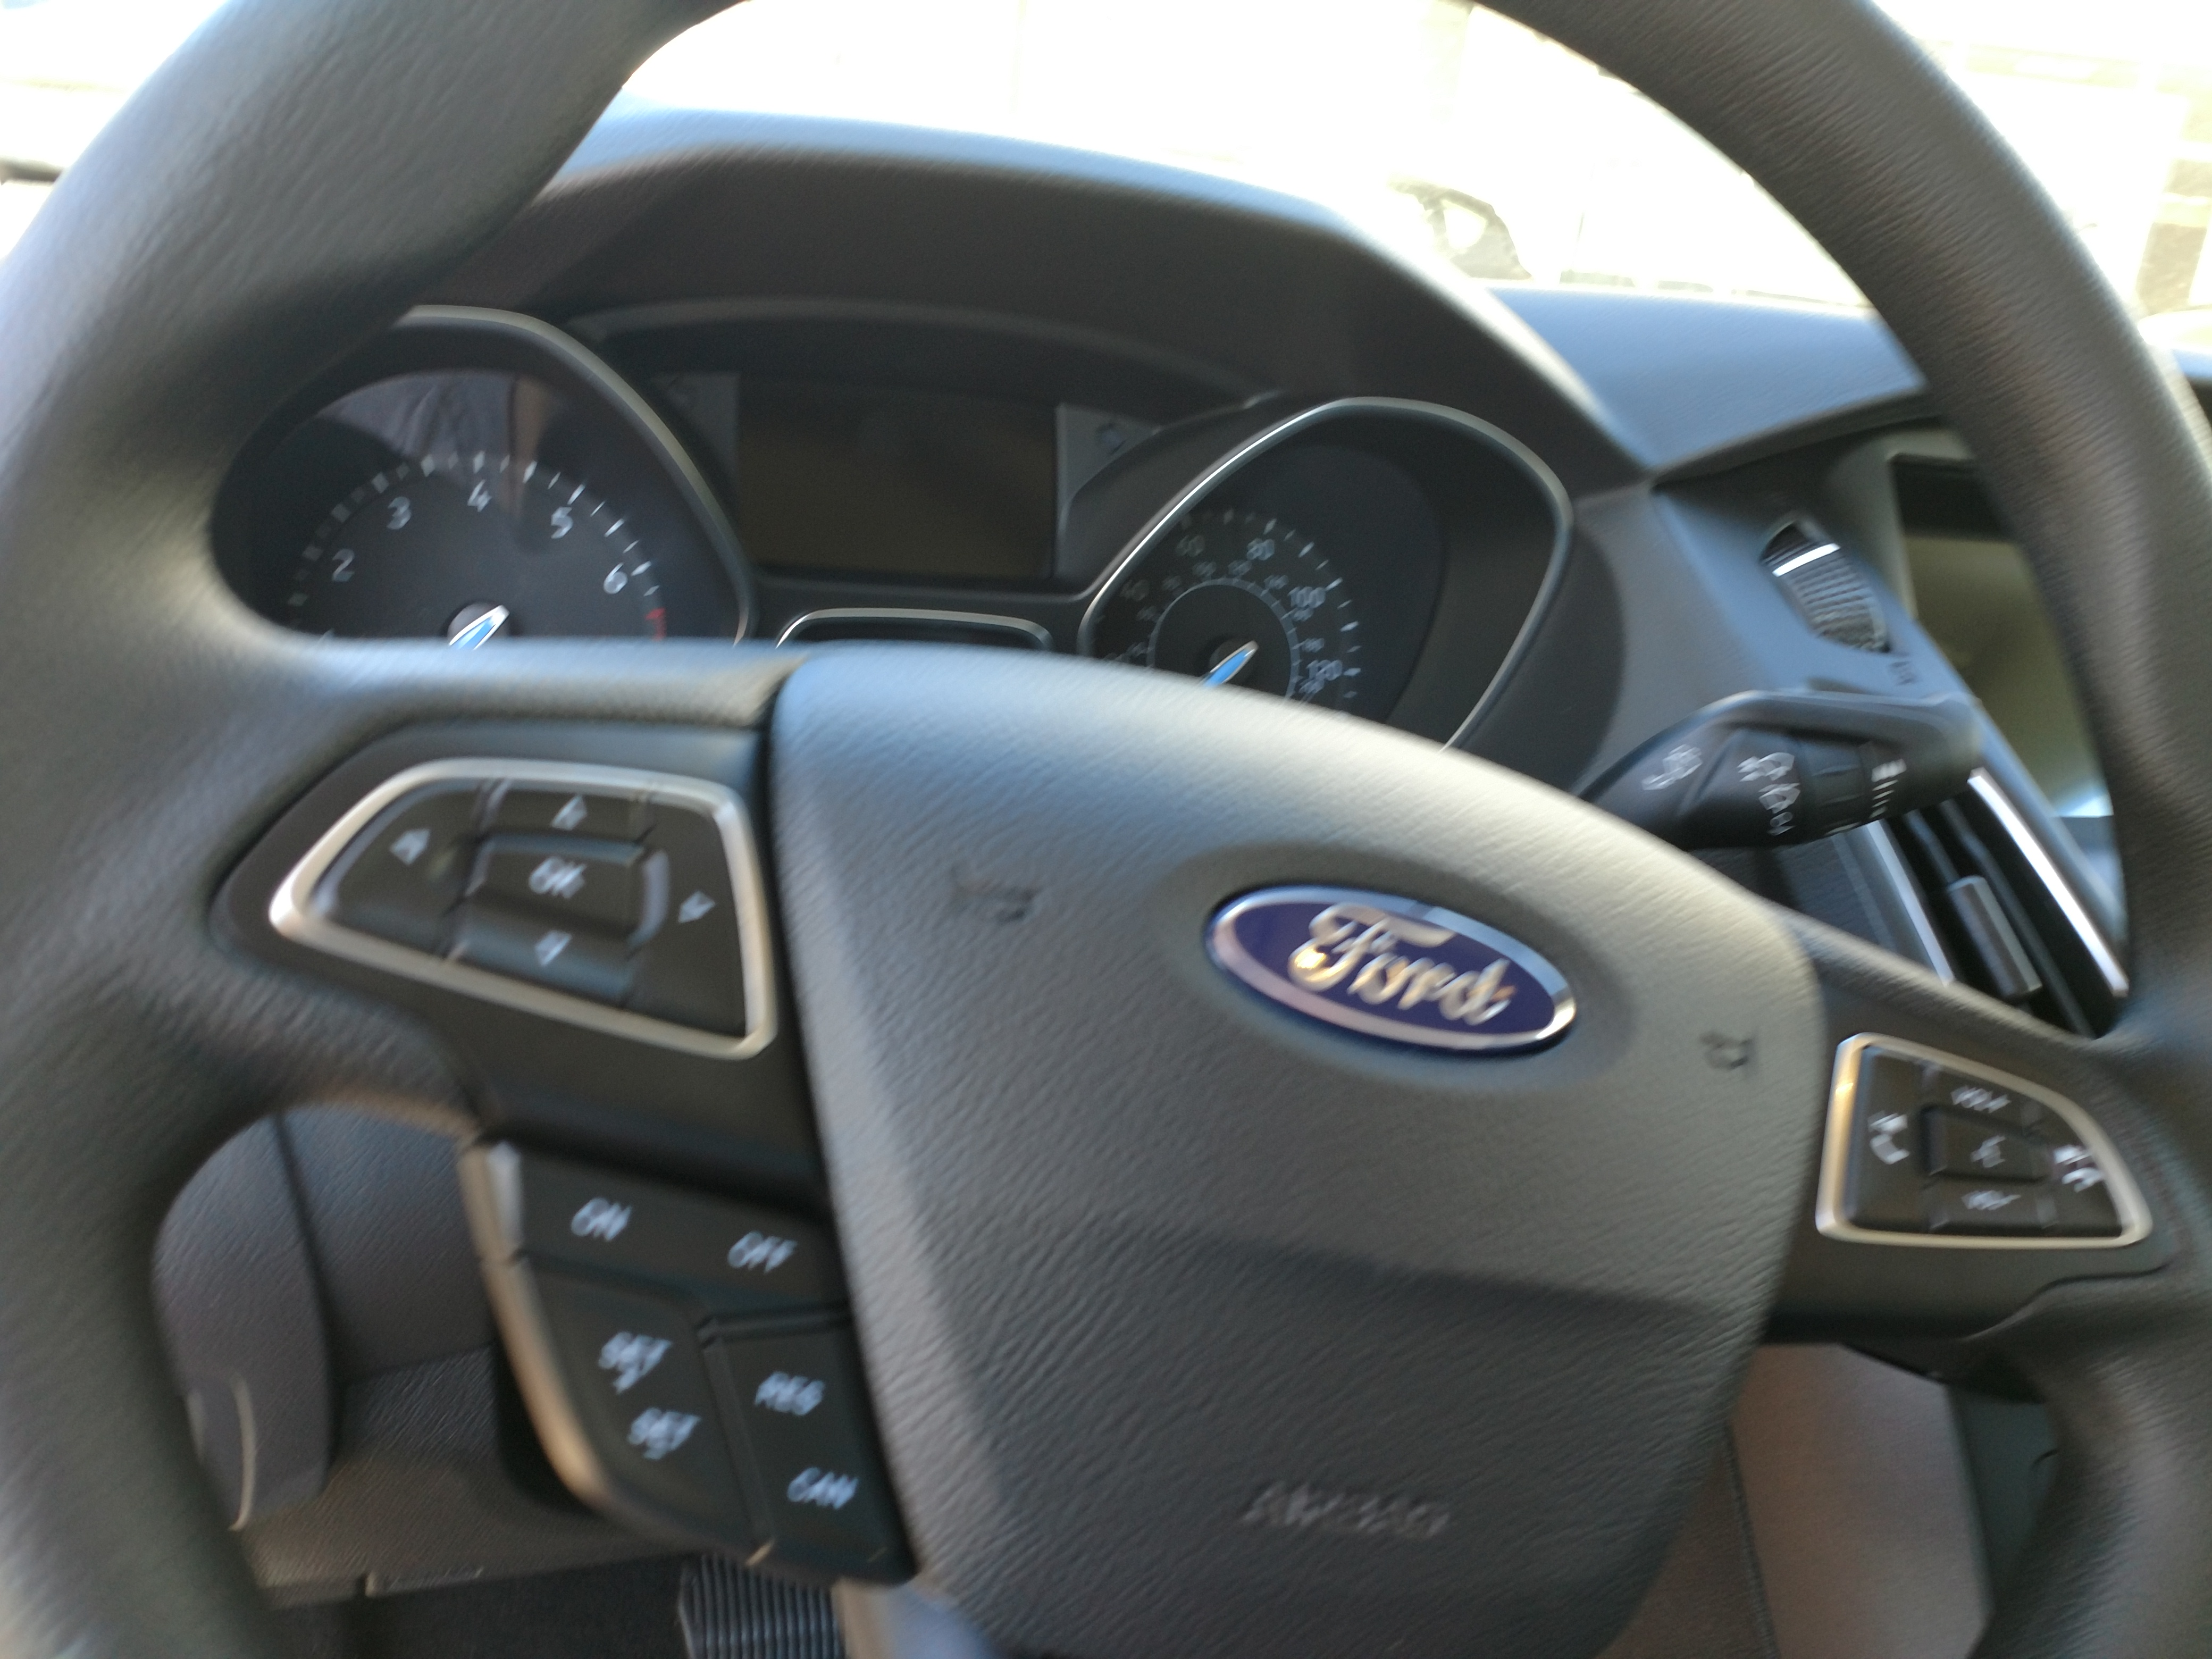Ford: (1186, 856, 1588, 1075)
